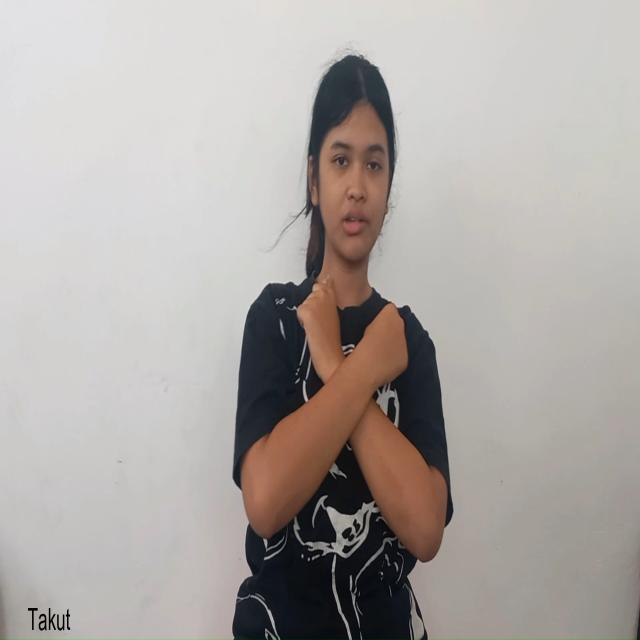Takut -BISINDO-: (285, 273, 427, 503)
